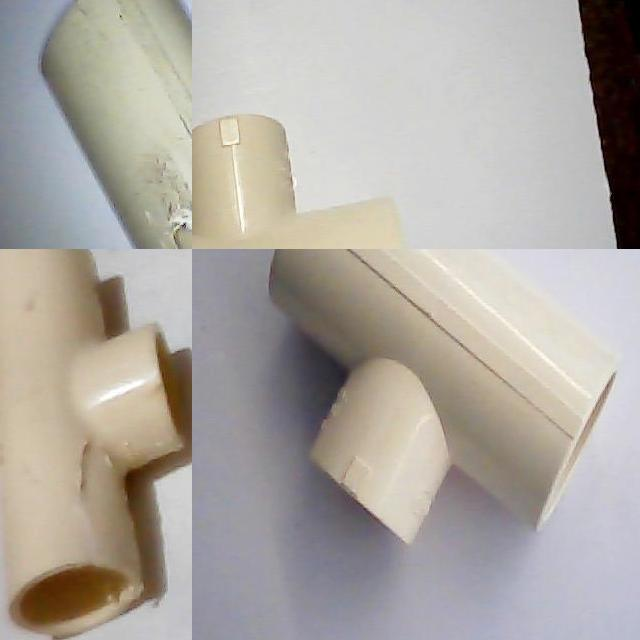Defective: (66, 429, 118, 536)
T Joint: (267, 249, 618, 547), (39, 0, 192, 249), (192, 115, 407, 249)
